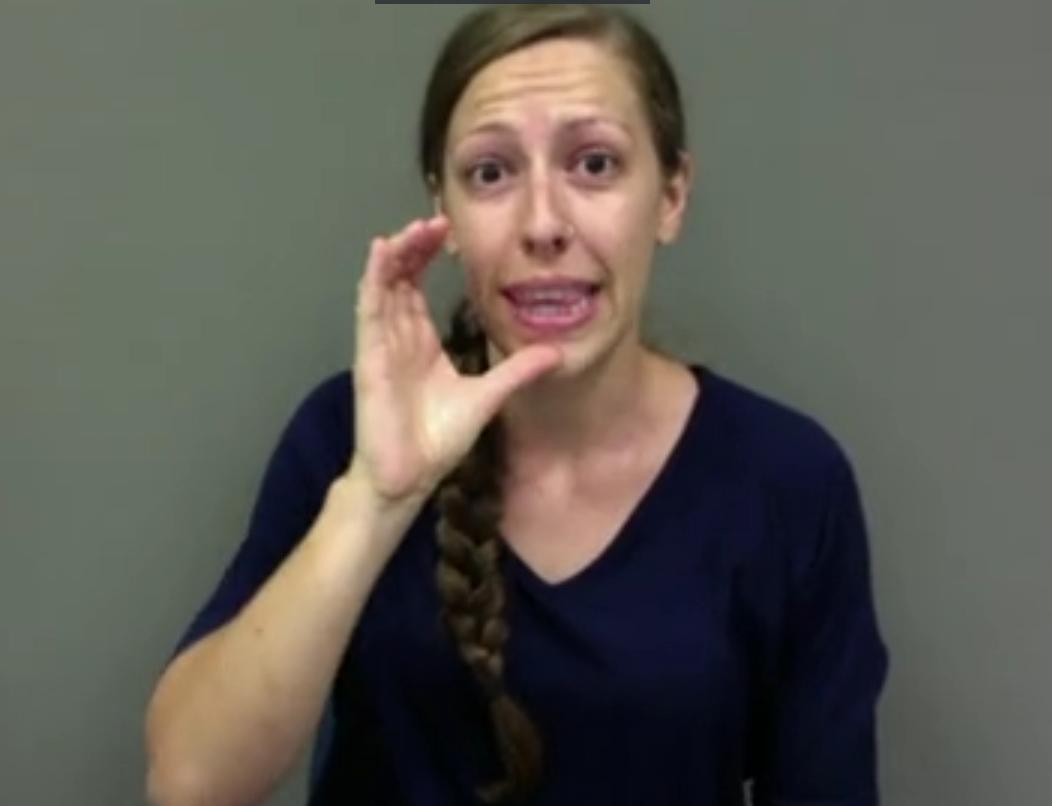drink: (340, 203, 568, 480)
